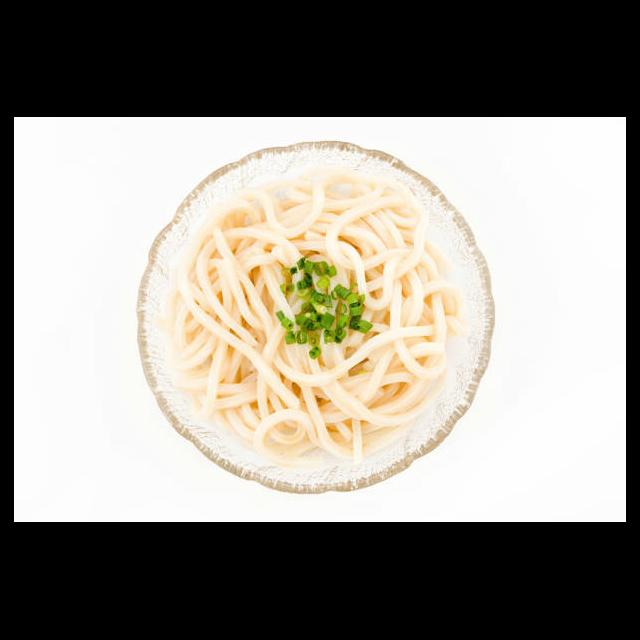noodles: (171, 170, 464, 468)
